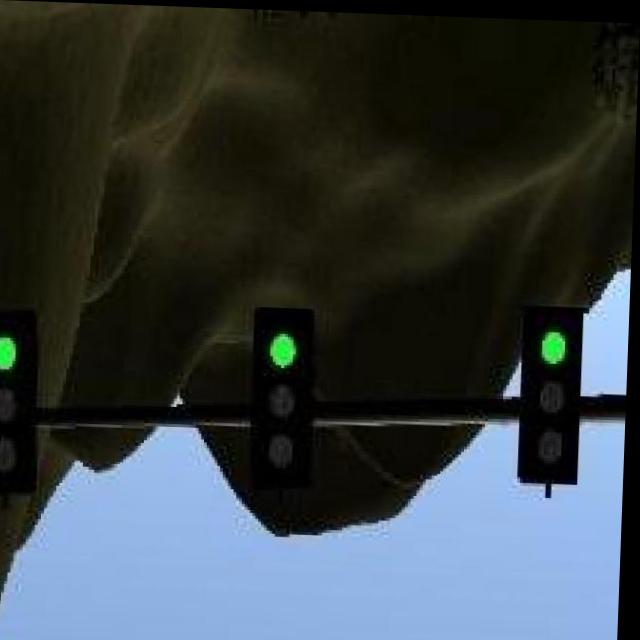green light: (252, 305, 314, 489), (523, 304, 586, 482), (0, 311, 42, 492)
